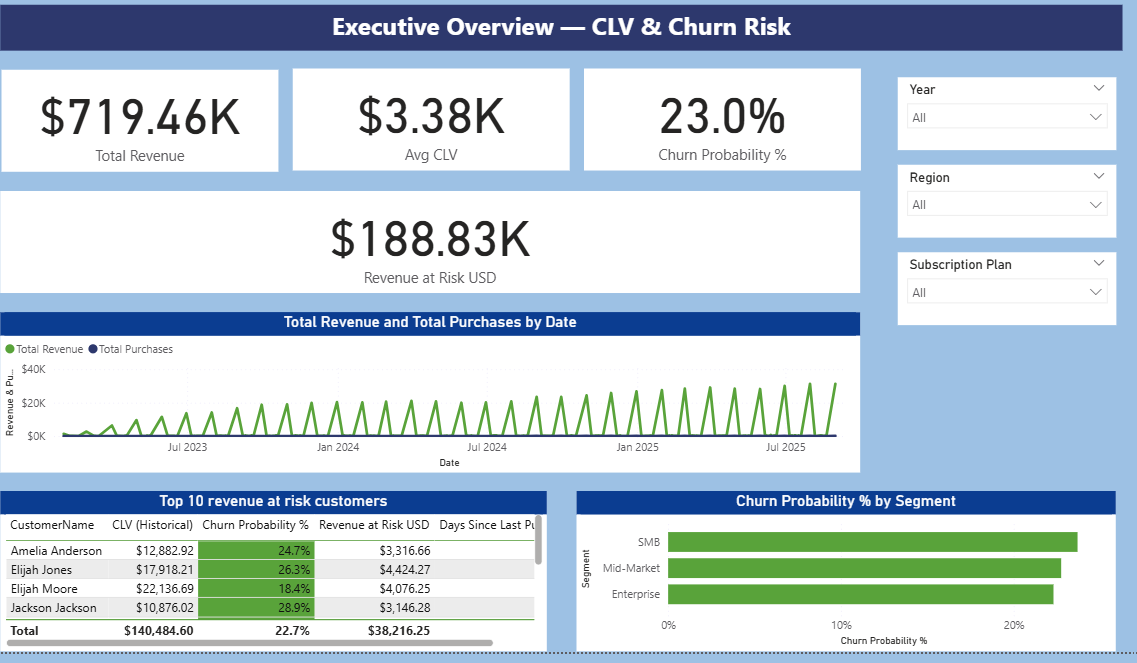

What the dashboard file says about the page in this screenshot:
{"tool":"powerbi","page":{"name":"Executive Overview","canvas":[1280,720],"ordinal":0},"visuals":[{"type":"textbox","box":[24,10,1232,50],"z":0},{"type":"card","fields":{"Values":["fact_Purchases.Total Revenue"]},"box":[24.6,80.5,304,112],"z":1000},{"type":"card","fields":{"Values":["fact_Purchases.Avg CLV"]},"box":[344.6,79.5,304,112],"z":2000},{"type":"card","fields":{"Values":["fact_Purchases.Churn Probability %"]},"box":[664.6,79.5,304,112],"z":3000},{"type":"card","fields":{"Values":["fact_Purchases.Revenue at Risk USD"]},"box":[24,213.6,944,112],"z":4000},{"type":"lineChart","fields":{"Category":["dim_Date.Date"],"Y":["fact_Purchases.Total Revenue","fact_Purchases.Total Purchases"]},"box":[24,346.8,944,176],"z":5000},{"type":"clusteredBarChart","fields":{"Category":["dim_Customers.Segment"],"Y":["fact_Purchases.Churn Probability %"]},"box":[656,544,592,176],"z":6000},{"type":"tableEx","title":"Top 10 revenue at risk customers","fields":{"Values":["dim_Customers.CustomerName","fact_Purchases.CLV (Historical)","fact_Purchases.Churn Probability %","fact_Purchases.Revenue at Risk USD","fact_Purchases.Days Since Last Purchase"]},"box":[24,544,600,176],"z":7000},{"type":"slicer","fields":{"Values":["dim_Date.Year"]},"box":[1008,89.1,240,80],"z":8000},{"type":"slicer","fields":{"Values":["dim_Customers.Region"]},"box":[1008,185.1,240,80],"z":9000},{"type":"slicer","fields":{"Values":["dim_Customers.SubscriptionPlan"]},"box":[1008,281.1,240,80],"z":10000}]}

Visuals, with their boxes on the page's 1280x720 design canvas (x1, y1, x2, y2). These are canvas units, not pixel positions in the 1137x663 screenshot, which may show the page scaled, cropped or inside an application window:
textbox: select_region(24, 10, 1256, 60)
card - fact_Purchases.Total Revenue: select_region(25, 80, 329, 192)
card - fact_Purchases.Avg CLV: select_region(345, 80, 649, 192)
card - fact_Purchases.Churn Probability %: select_region(665, 80, 969, 192)
card - fact_Purchases.Revenue at Risk USD: select_region(24, 214, 968, 326)
lineChart - dim_Date.Date x fact_Purchases.Total Revenue: select_region(24, 347, 968, 523)
clusteredBarChart - dim_Customers.Segment x fact_Purchases.Churn Probability %: select_region(656, 544, 1248, 720)
"Top 10 revenue at risk customers" tableEx: select_region(24, 544, 624, 720)
slicer - dim_Date.Year: select_region(1008, 89, 1248, 169)
slicer - dim_Customers.Region: select_region(1008, 185, 1248, 265)
slicer - dim_Customers.SubscriptionPlan: select_region(1008, 281, 1248, 361)
